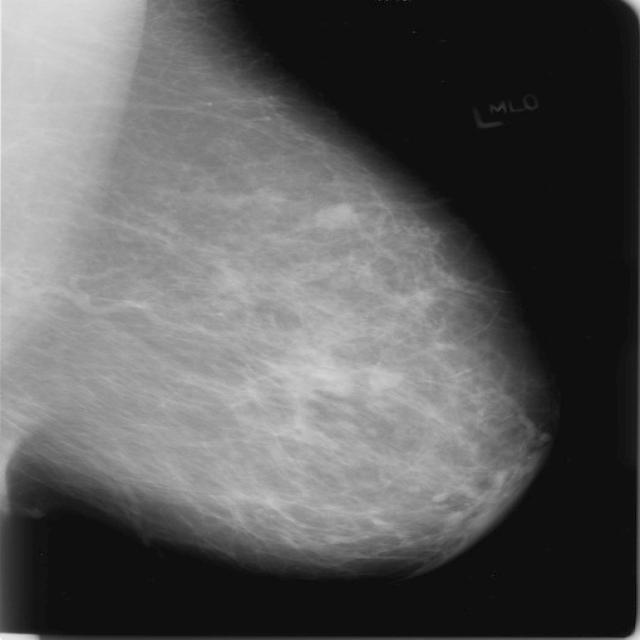tumour: (311, 204, 359, 231)
